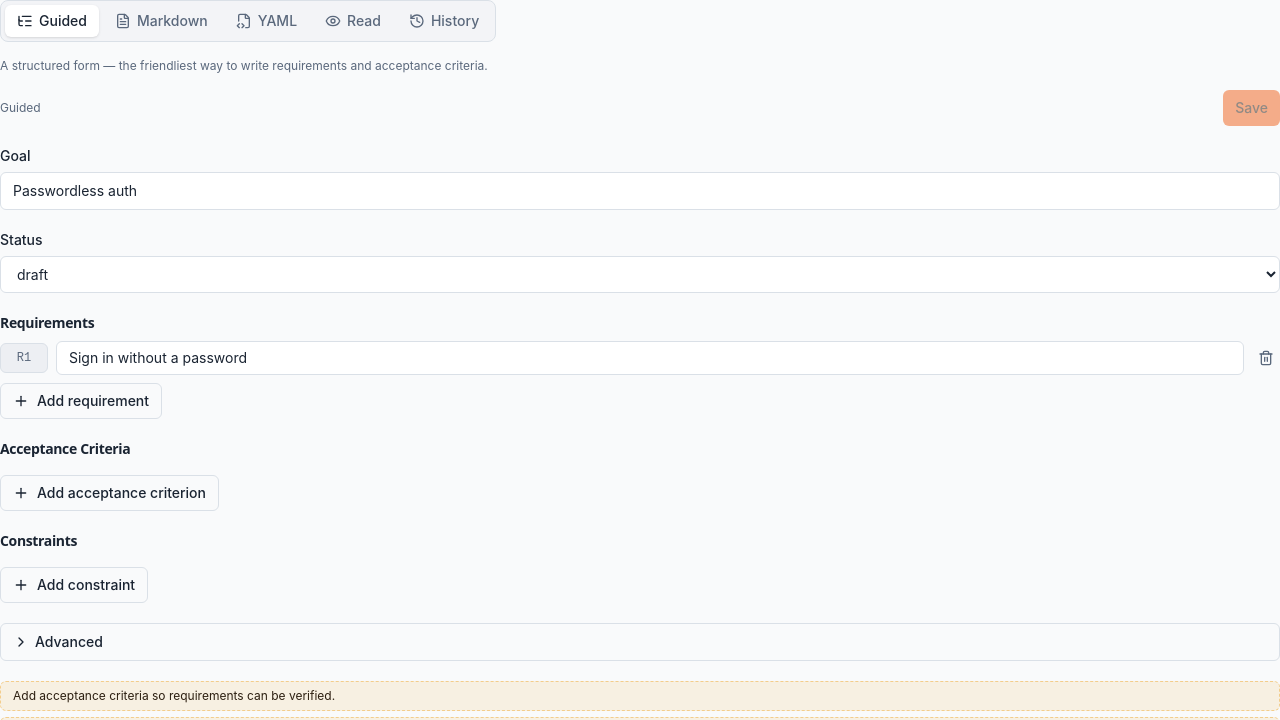
Test: SpecStudio › switches to YAML mode and lazily loads manifest.yaml with live validation
Step 1. Click the tab with test id "studio-mode-yaml" → [266, 21], box x1=224 y1=5 x2=309 y2=37
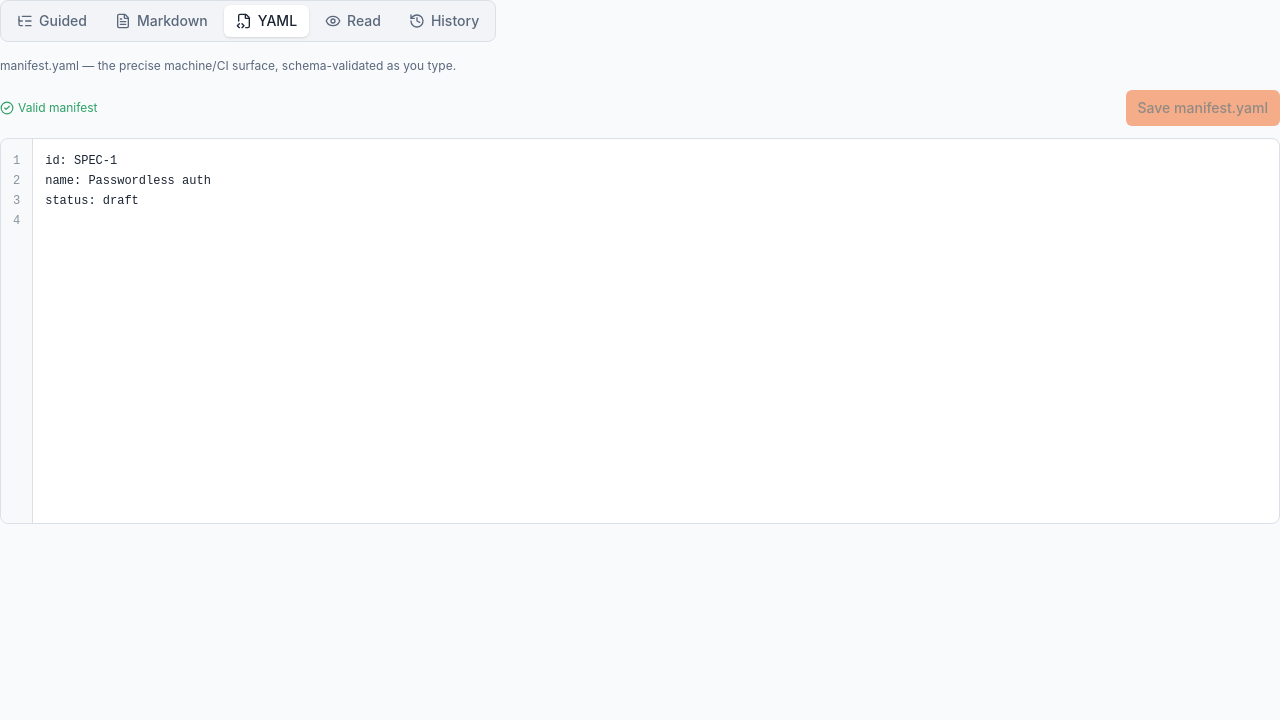
Expected: the element with test id "yaml-mode" is shown
Expected: the element with test id "yaml-status-valid" is shown, x1=0 y1=100 x2=98 y2=116
